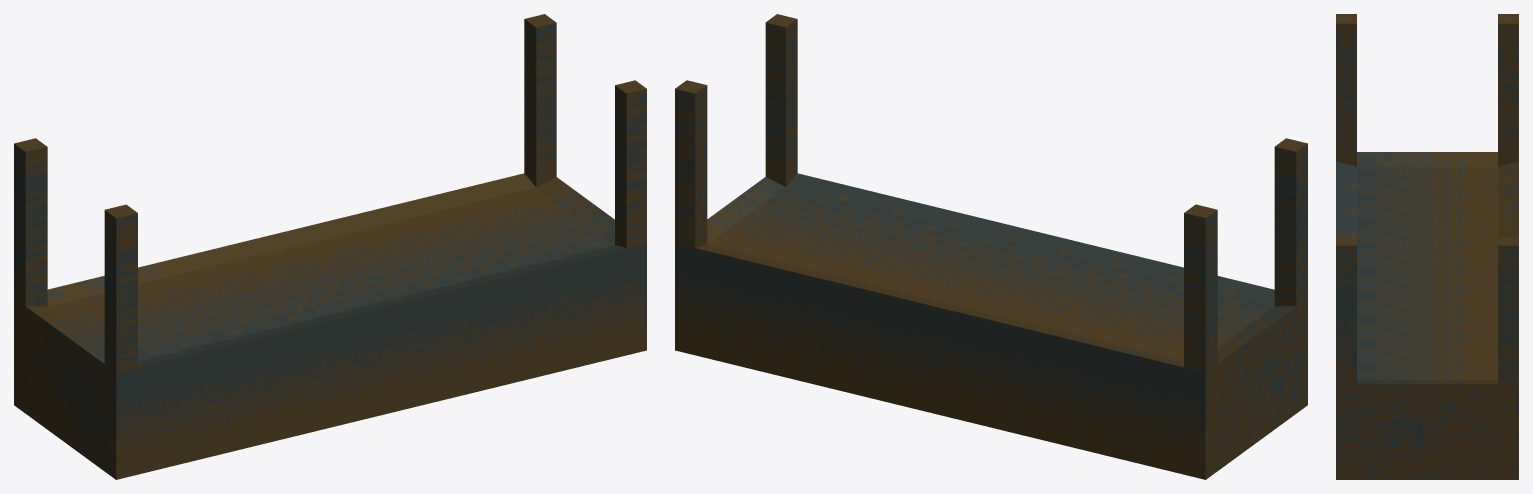
File: Kiosk.fbx
3 renders of one model, left to right at view 1: azimuth 30°, elevation 25°; view 2: azimuth 150°, elevation 25°; view 3: azimuth 270°, elevation 25°, orthographic. The views are drawn at different scales.
Visible parts, largest first — view 1: Cube; view 2: Cube; view 3: Cube.
Boxes of the visible parts, x1,y1,x2,y2 form: Cube: (14,14,646,479); Cube: (675,14,1307,479); Cube: (1336,14,1518,479).
Size of the model in its own units: 900 by 424 by 300.
